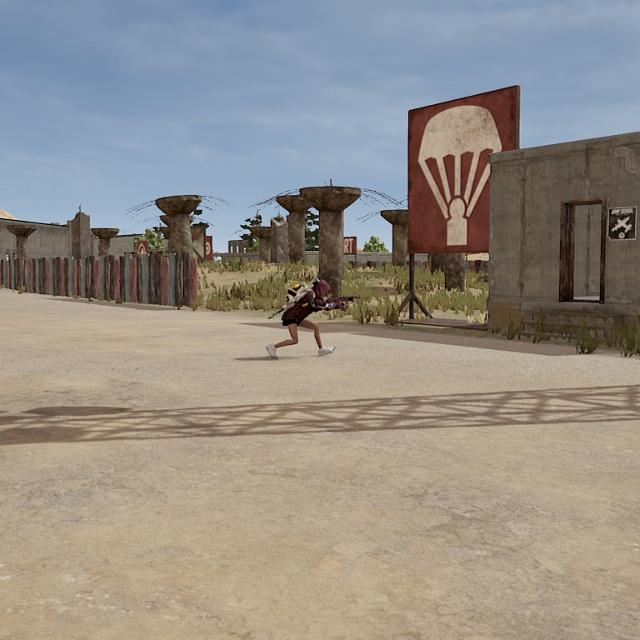head: (311, 278, 330, 301)
people: (265, 278, 336, 360)
